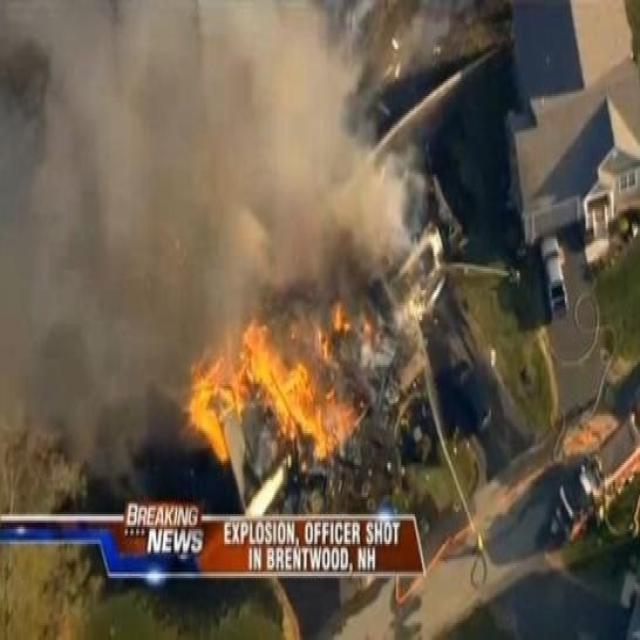Fire: (188, 300, 364, 466)
Smoke: (1, 2, 448, 289), (5, 294, 183, 474)
